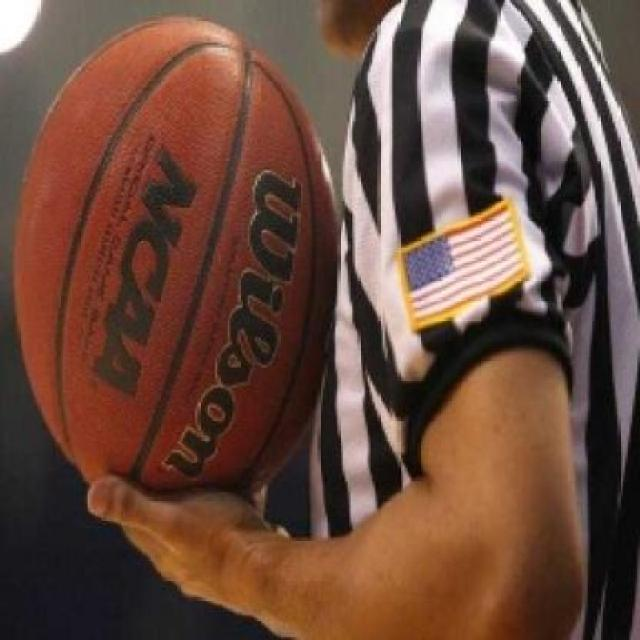basketball: (6, 8, 350, 528)
